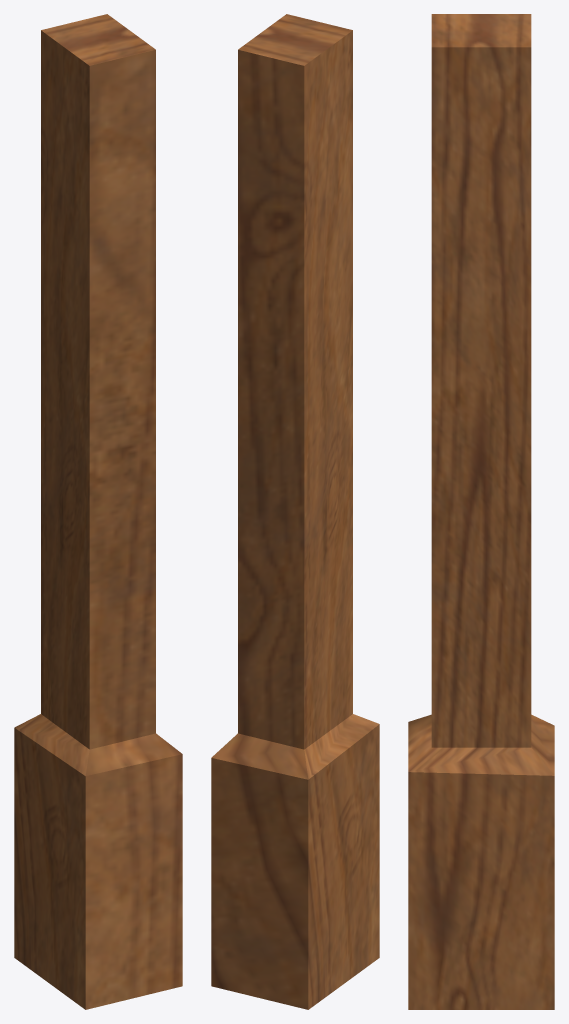
File: WoodColumn.glb
The picture shows the model from 3 angles, left to right: view 1: azimuth 30°, elevation 25°; view 2: azimuth 150°, elevation 25°; view 3: azimuth 270°, elevation 25°; orthographic projection. The views are drawn at different scales.
Parts seen in each view (by area): view 1: WoodColumn; view 2: WoodColumn; view 3: WoodColumn.
Part boxes in pixels (x1,y1,x2,y2): WoodColumn: (14, 14, 182, 1009); WoodColumn: (211, 14, 379, 1009); WoodColumn: (408, 14, 554, 1009).
Size of the model in its own units: 0.8223 by 7.54 by 1.05.
1 material, 1 textured.
